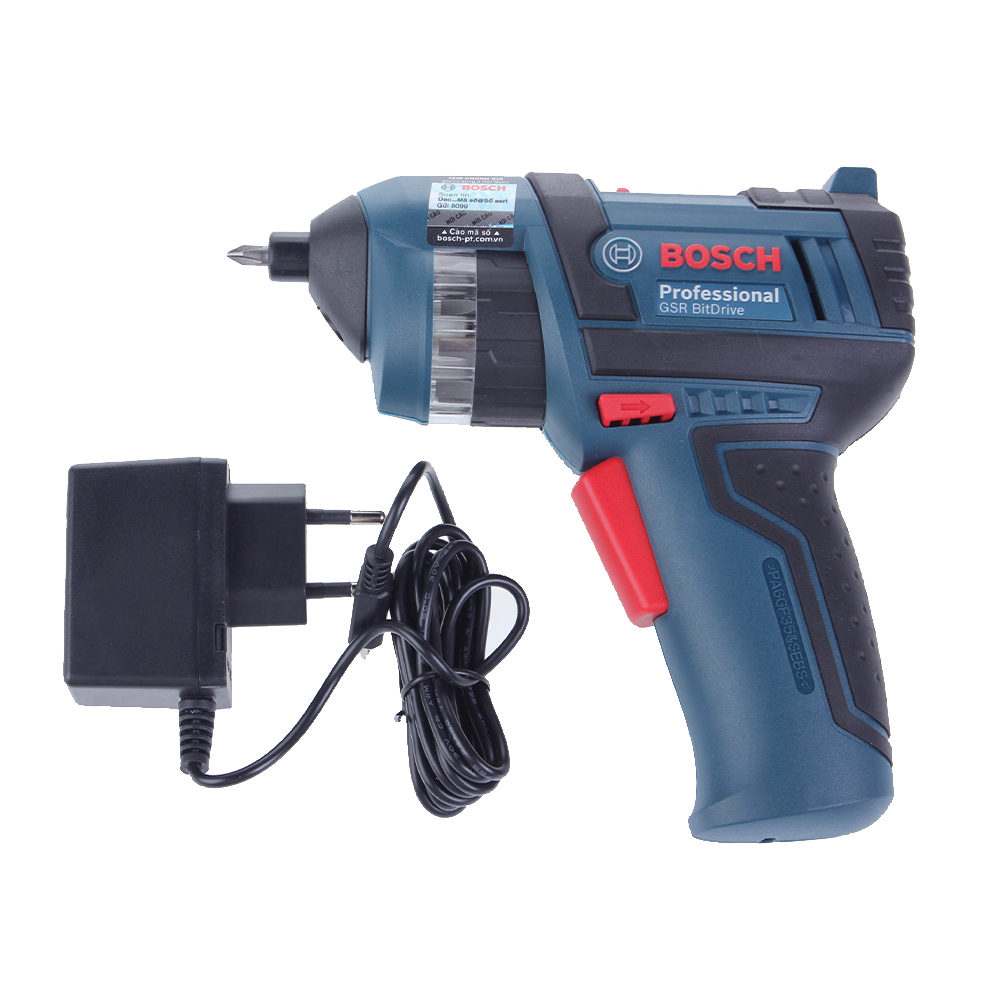Bosch: (657, 237, 787, 274), (459, 181, 509, 193)
